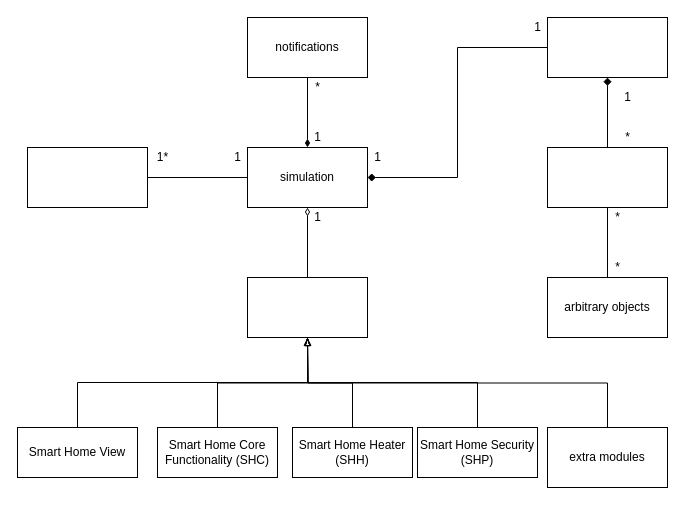
Some shapes in this 685 by 505 pixel diagram are drawn without their labels. Each missing label, with the box of its shape:
home: (546, 16, 668, 78)
modules: (246, 276, 368, 338)
rooms: (546, 146, 668, 208)
users: (26, 146, 148, 208)
